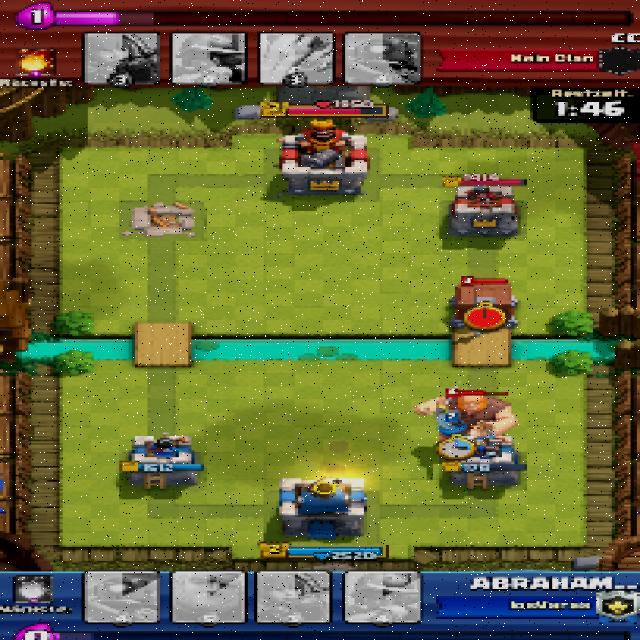Enemy-Giant: (417, 392, 518, 436)
Player-GoblinCage: (445, 284, 520, 330)
Player-Knight: (433, 410, 470, 439)
